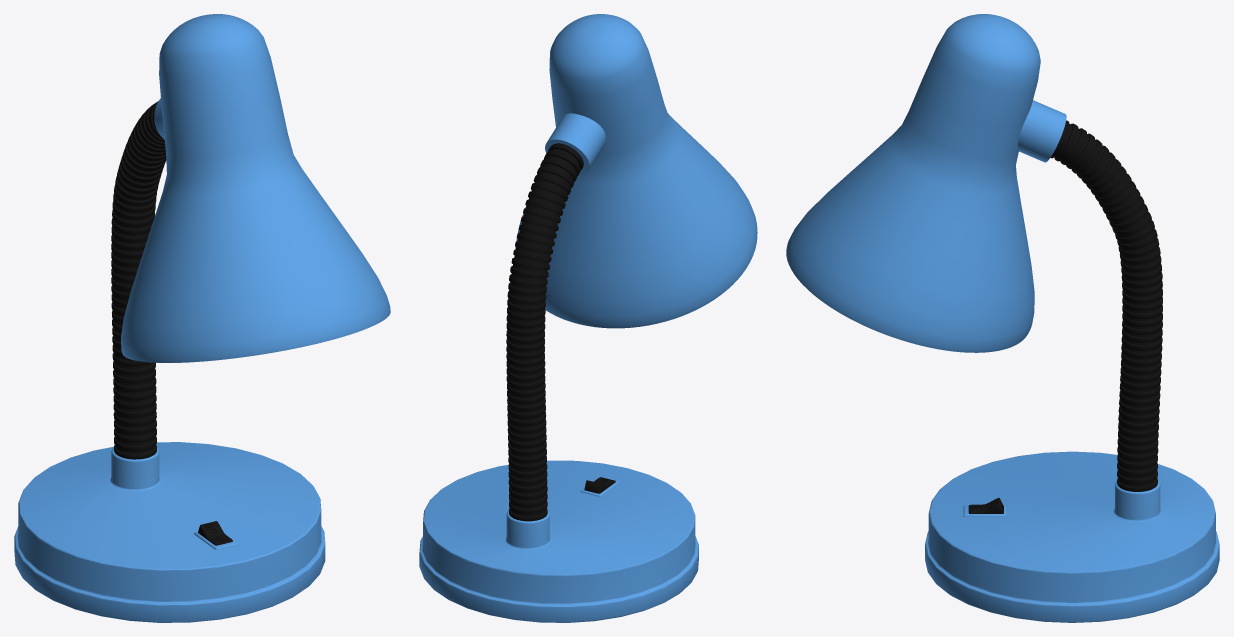
Rendered from desk_lamp.glb.
The picture shows the model from 3 angles, left to right: view 1: azimuth 30°, elevation 25°; view 2: azimuth 150°, elevation 25°; view 3: azimuth 270°, elevation 25°; orthographic projection. The views are drawn at different scales.
Visible parts, largest first — view 1: lamp, lamp stand, tube, on off; view 2: lamp, lamp stand, tube; view 3: lamp, lamp stand, tube.
Part boxes in pixels (x1=…): lamp: x1=121, y1=14, x2=390, y2=362; lamp stand: x1=14, y1=442, x2=325, y2=622; tube: x1=111, y1=101, x2=166, y2=459; on off: x1=198, y1=521, x2=232, y2=545; lamp: x1=515, y1=14, x2=757, y2=328; lamp stand: x1=419, y1=460, x2=698, y2=622; tube: x1=506, y1=143, x2=583, y2=521; lamp: x1=786, y1=14, x2=1066, y2=352; lamp stand: x1=925, y1=451, x2=1219, y2=622; tube: x1=1050, y1=120, x2=1162, y2=491.
Bounding box in the file's own units: 0.3586 × 0.7266 × 0.5272.
